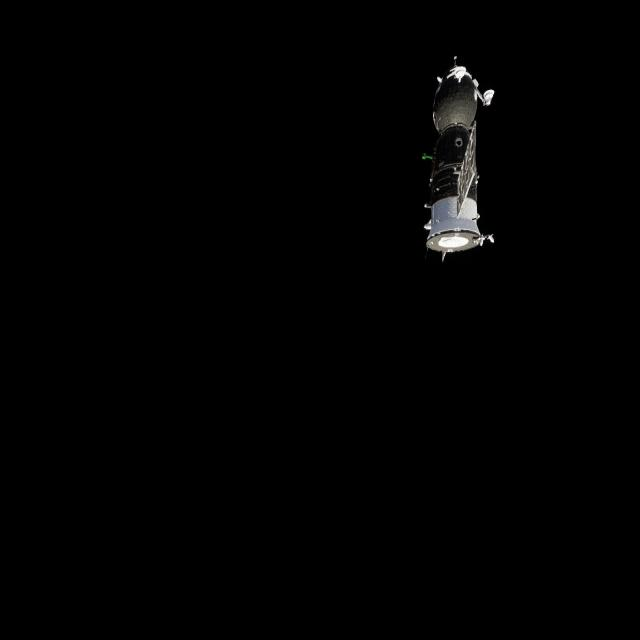Satellites revolving around earth: (420, 53, 498, 264)
